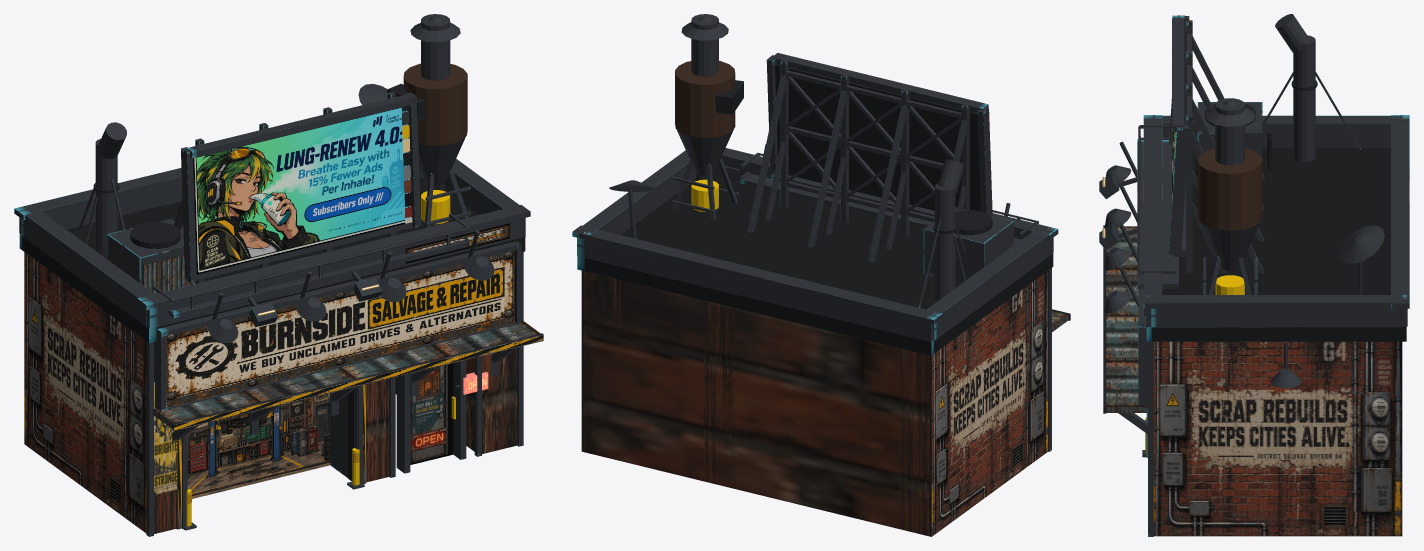
Rendered from storefront_burnside.glb.
3 views of the same model, side by side, from view 1: azimuth 30°, elevation 25°; view 2: azimuth 150°, elevation 25°; view 3: azimuth 270°, elevation 25° (orthographic). The views are drawn at different scales.
Parts seen in each view (by area): view 1: StorefrontBurnside_Mesh; view 2: StorefrontBurnside_Mesh; view 3: StorefrontBurnside_Mesh.
Boxes of the visible parts, bbox=[...] form: StorefrontBurnside_Mesh: bbox=[14, 14, 543, 536]; StorefrontBurnside_Mesh: bbox=[572, 14, 1070, 536]; StorefrontBurnside_Mesh: bbox=[1099, 14, 1409, 536].
Size of the model in its own units: 10.33 by 9.8 by 6.68.
2 materials, 2 textured.
